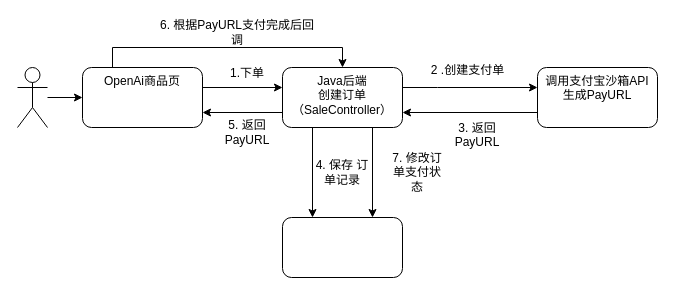
The diagram is 675 pixels wide and 295 high, and some of its shapes have lost their labels. The box of each missing label's shape, as (x1, y1, x2, y2) in pixels:
Actor: (16, 66, 48, 128)
保存到数据库: (282, 216, 402, 278)
